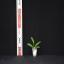leaf: (34, 41, 41, 48), (31, 37, 35, 48), (27, 43, 34, 48), (35, 46, 40, 48), (30, 46, 33, 48)
